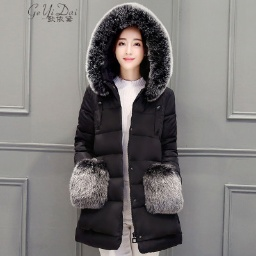face: (107, 24, 153, 76)
